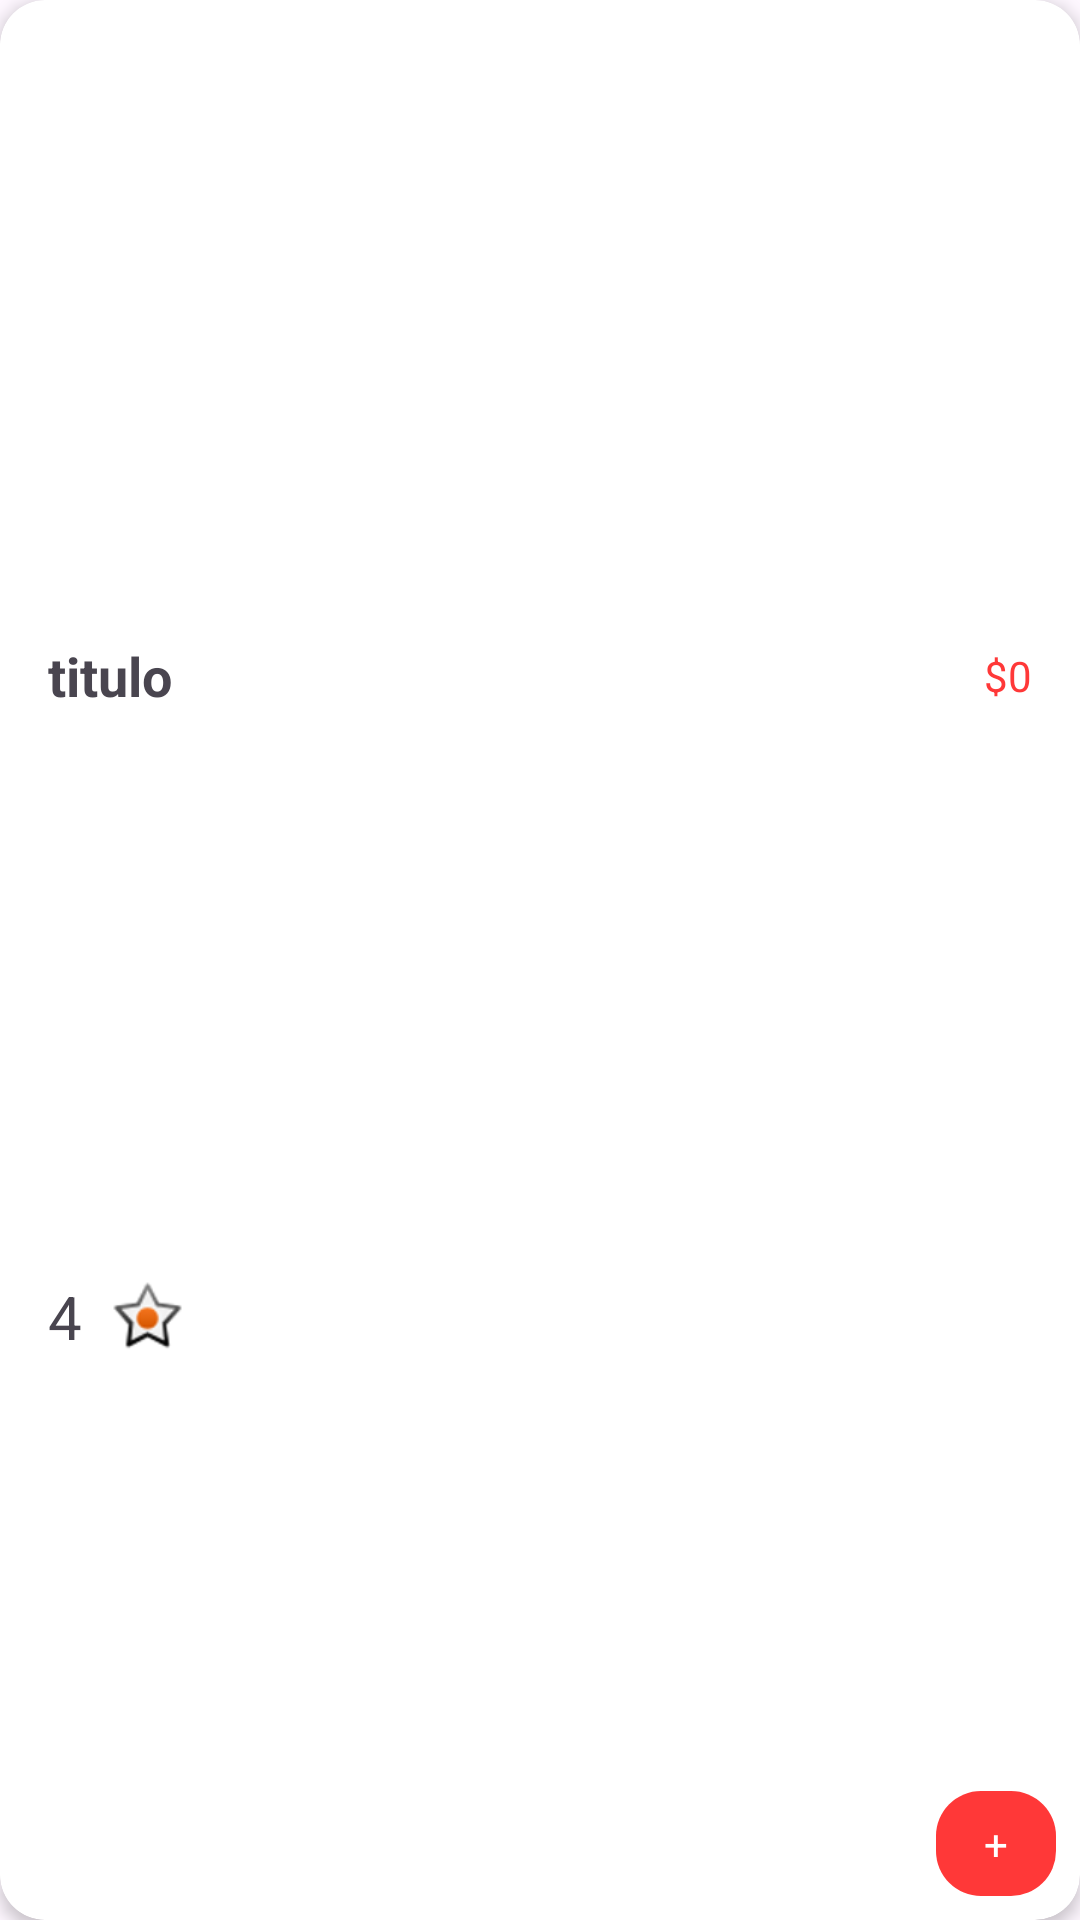

Named icons in this screenshot (1080w x 1920h) and their bounding boxes, BBox(x1, y1, x2, y2):
star on: BBox(113, 1283, 182, 1348)
